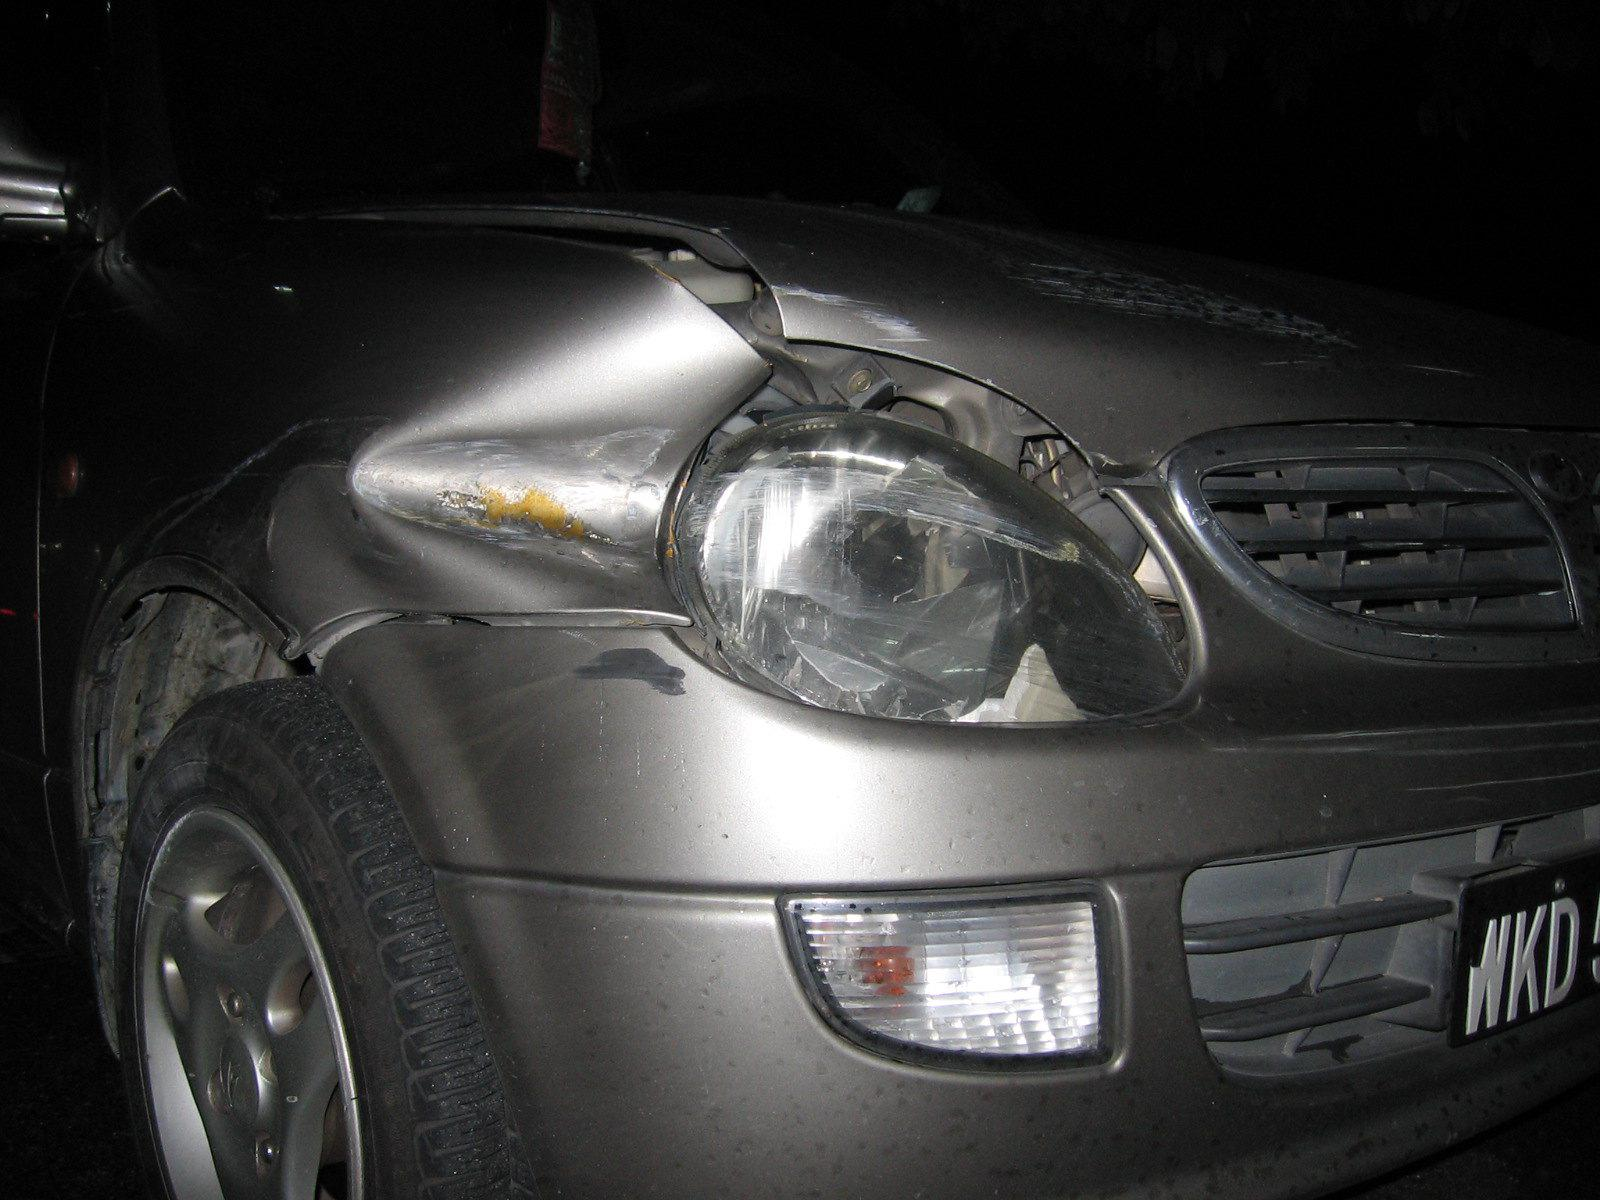bonnet-dent: (666, 163, 1599, 497)
fender-dent: (8, 182, 777, 681)
front-bumper-dent: (258, 596, 1599, 1199)
